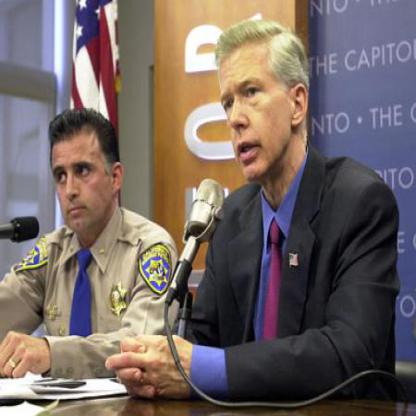face: (207, 31, 290, 182), (49, 113, 113, 234)
